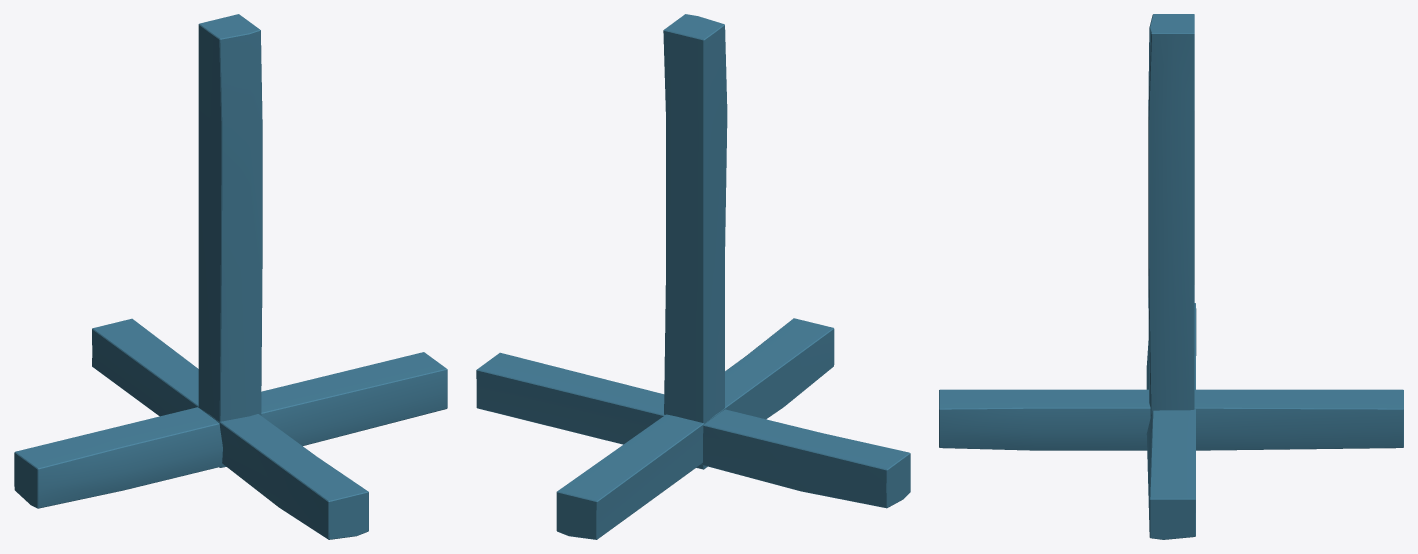
The model's file is Gallows_04A_Lod0.fbx.
3 renders of one model, left to right at view 1: azimuth 30°, elevation 25°; view 2: azimuth 150°, elevation 25°; view 3: azimuth 270°, elevation 25°, orthographic. The views are drawn at different scales.
Visible parts, largest first — view 1: Gallows_04A_Lod0; view 2: Gallows_04A_Lod0; view 3: Gallows_04A_Lod0.
Part boxes in pixels (x1,y1,x2,y2): Gallows_04A_Lod0: (14, 14, 447, 539); Gallows_04A_Lod0: (476, 14, 910, 539); Gallows_04A_Lod0: (939, 14, 1403, 539).
Size of the model in its own units: 106 by 106 by 106.
